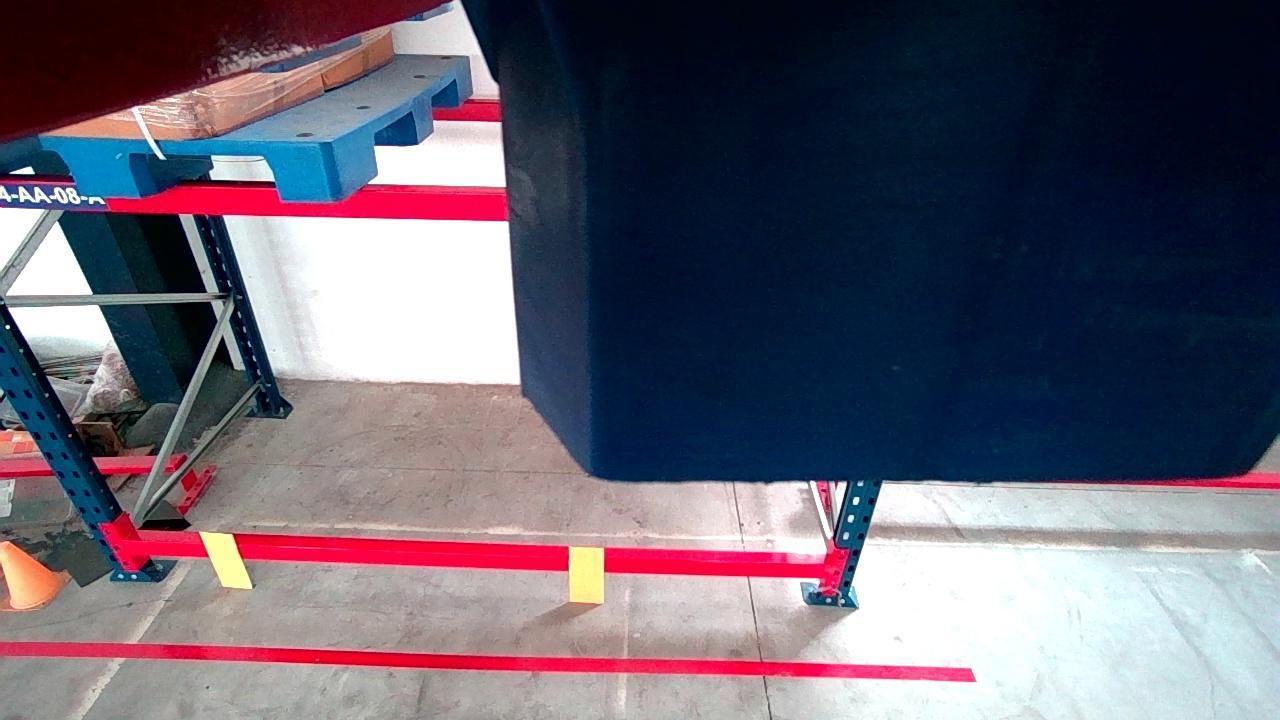h_rack: (124, 539, 824, 578), (0, 182, 506, 219)
orange_strip: (200, 531, 249, 586), (569, 548, 602, 601)
red_line: (1, 640, 974, 680)
small_pallet: (31, 138, 338, 198)
